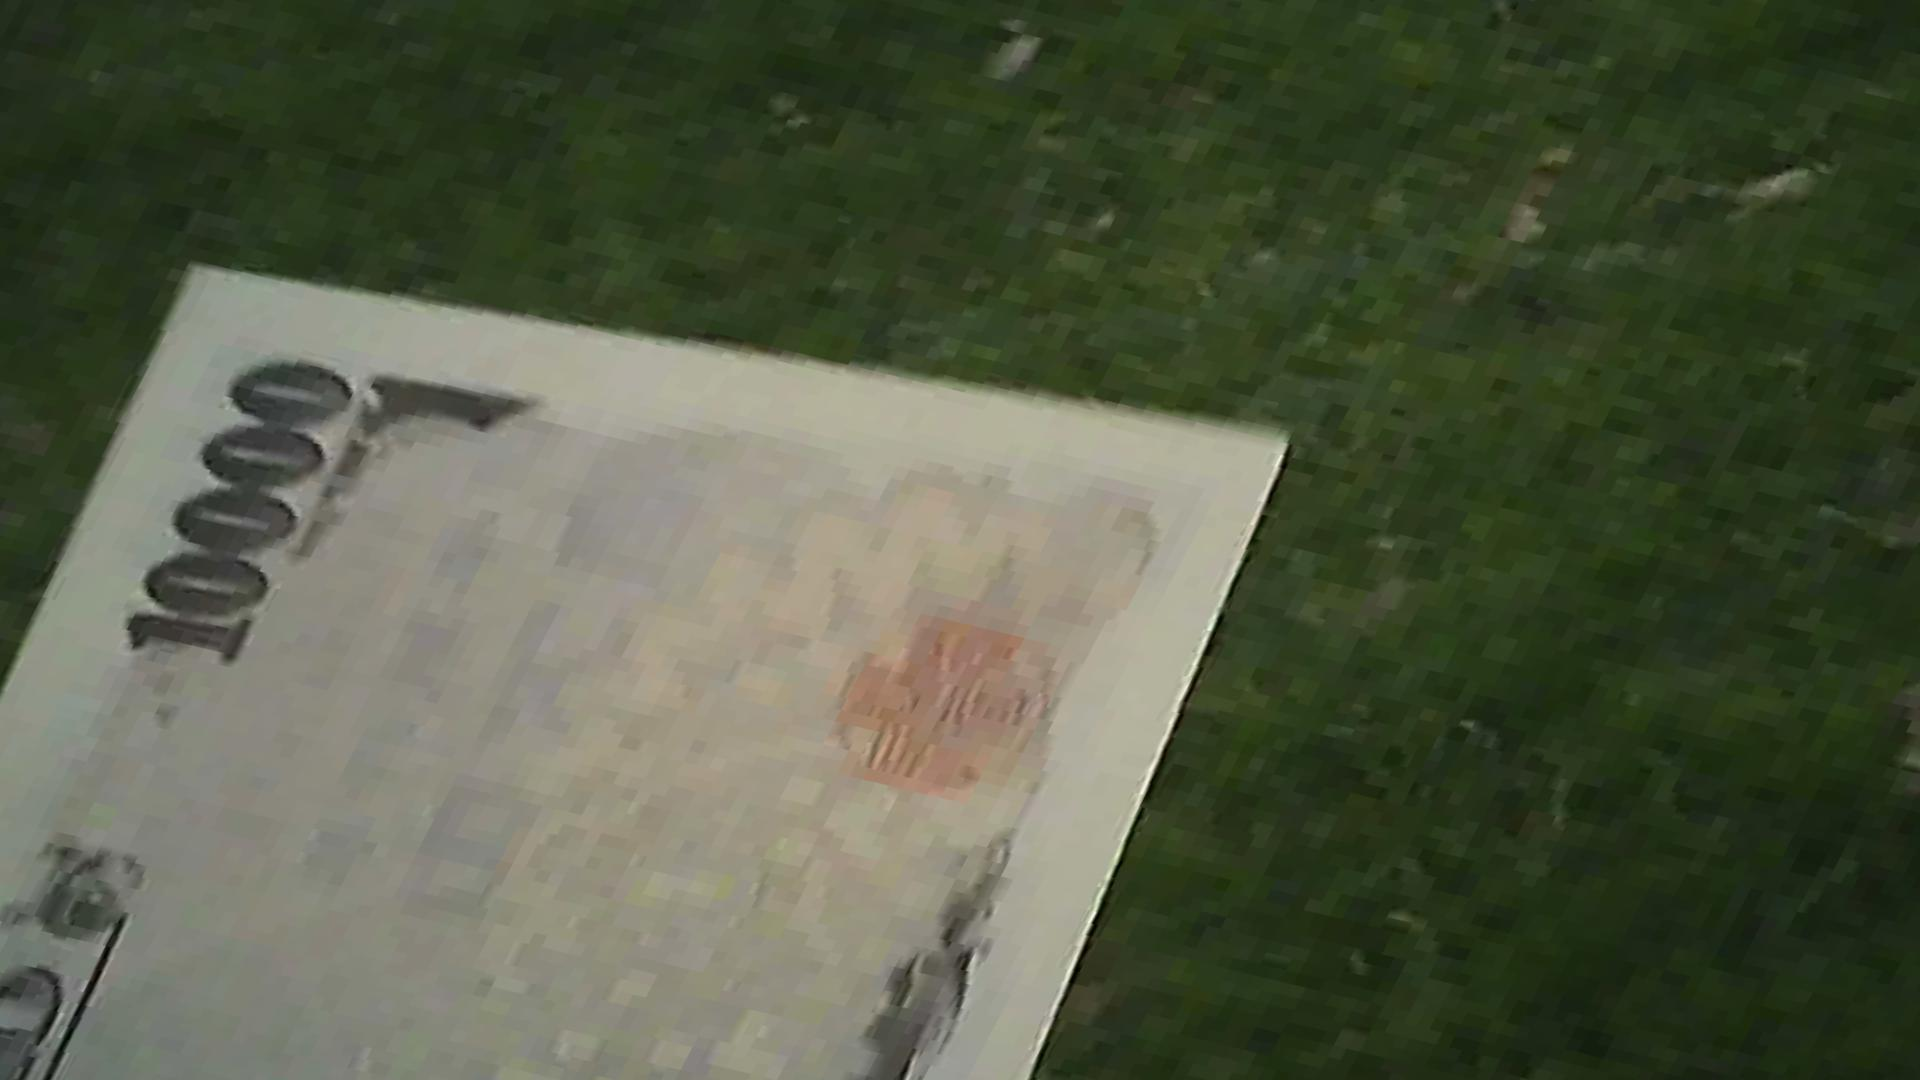10,000 Yen: (25, 233, 1167, 1079)
